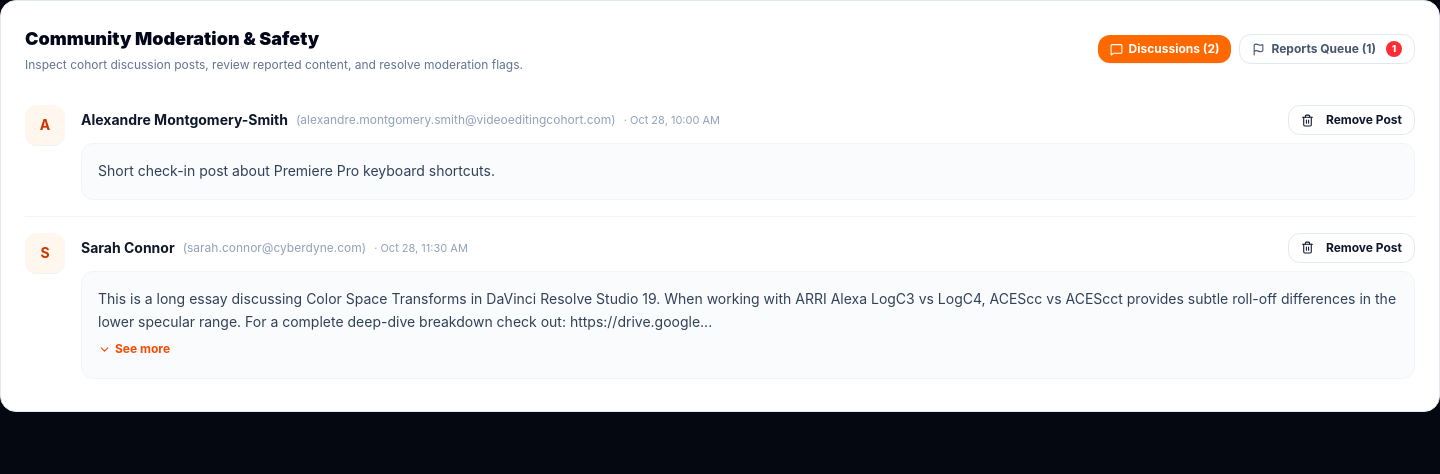
Test: CommunityTab (Community Moderation & Safety Responsive Views) › toggles expansion of long post.body when "See more" / "See less" is clicked
Step 1. Click the button "See more" → (134,349), box [98,341,170,357]
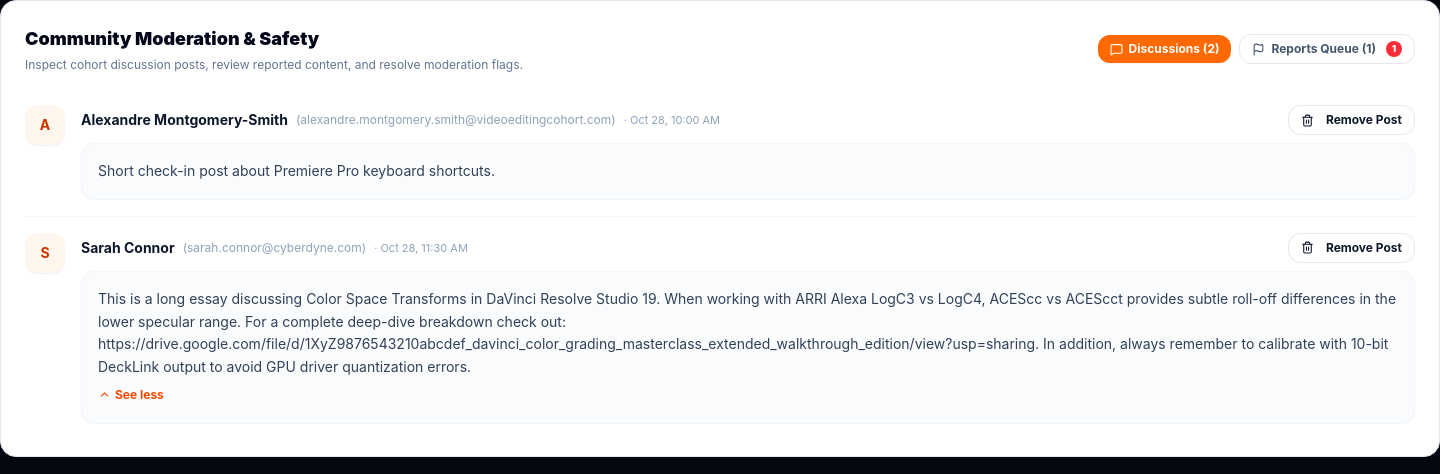
Expected: the button "See less" is shown
Expected: the text "DeckLink output to avoid GPU driver quantization errors" is shown, [98,290,1400,375]
Step 2. Click the button "See less" → (131,395), box [98,387,164,403]
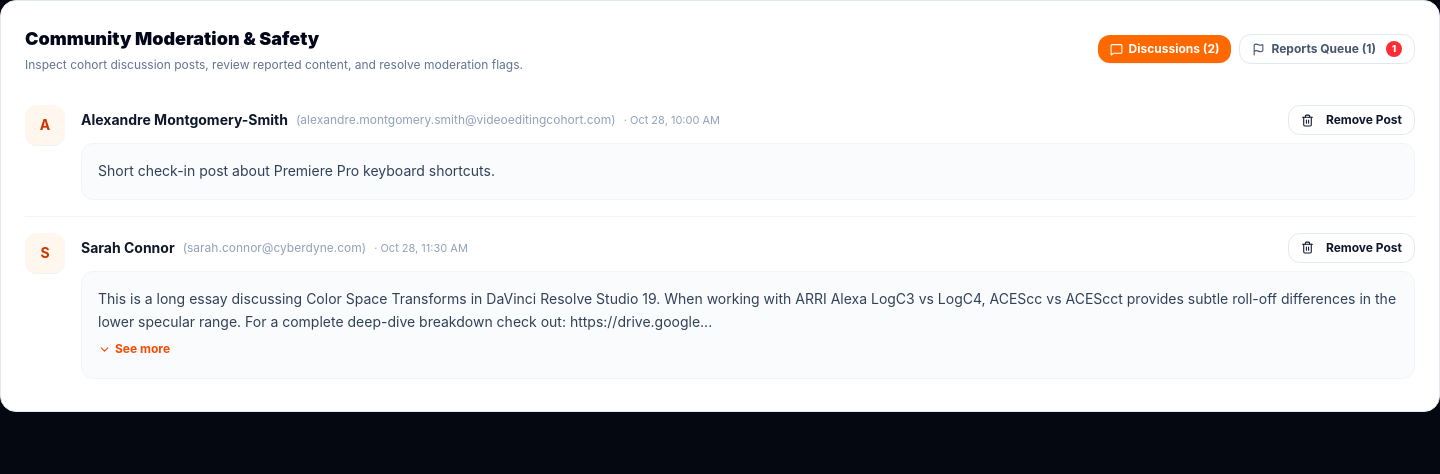
Expected: the button "See more" is shown, [98,341,170,357]
